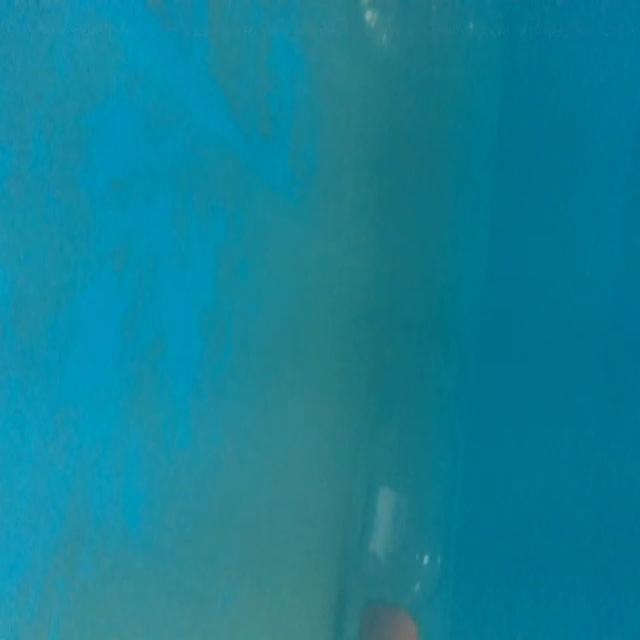plastic bottle: (347, 346, 454, 639)
